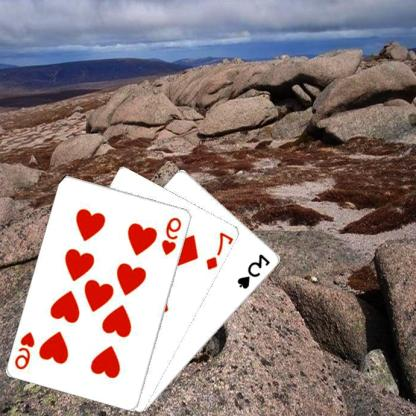3S: (236, 251, 273, 290)
7D: (205, 229, 235, 271)
9H: (161, 214, 185, 256), (14, 328, 38, 370)
